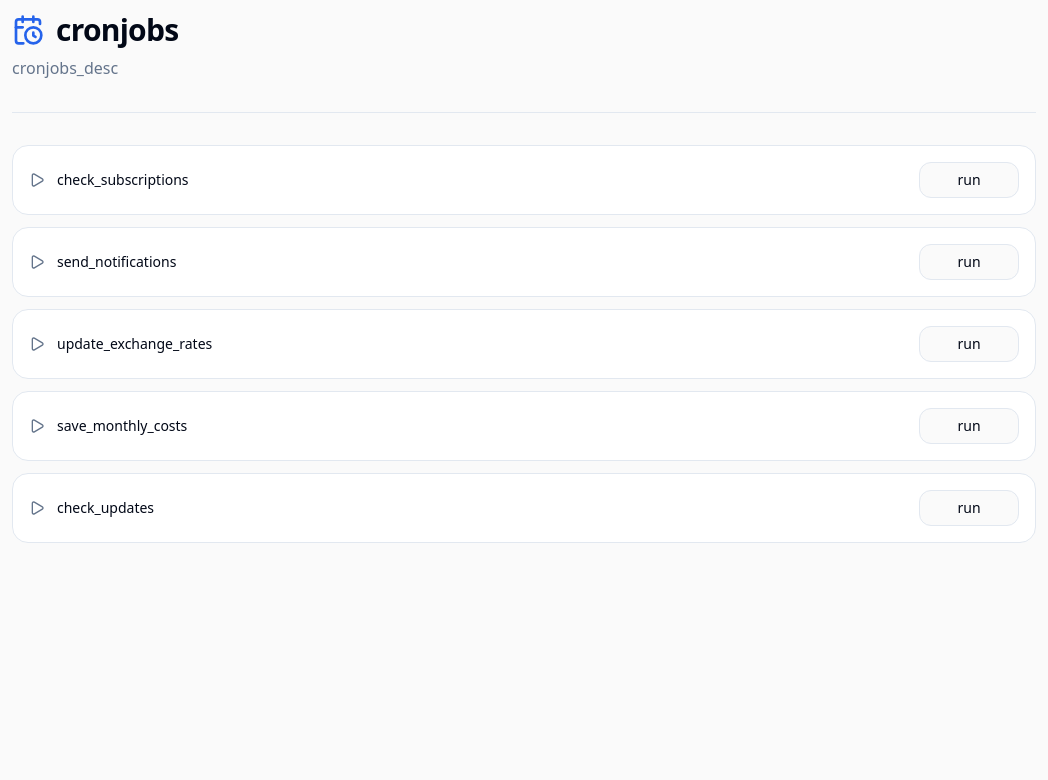
Test: CronjobsTab › handles error run (string error)
Click the button "run" in the row of "update_exchange_rates" at (969,344), box x1=919 y1=326 x2=1019 y2=362
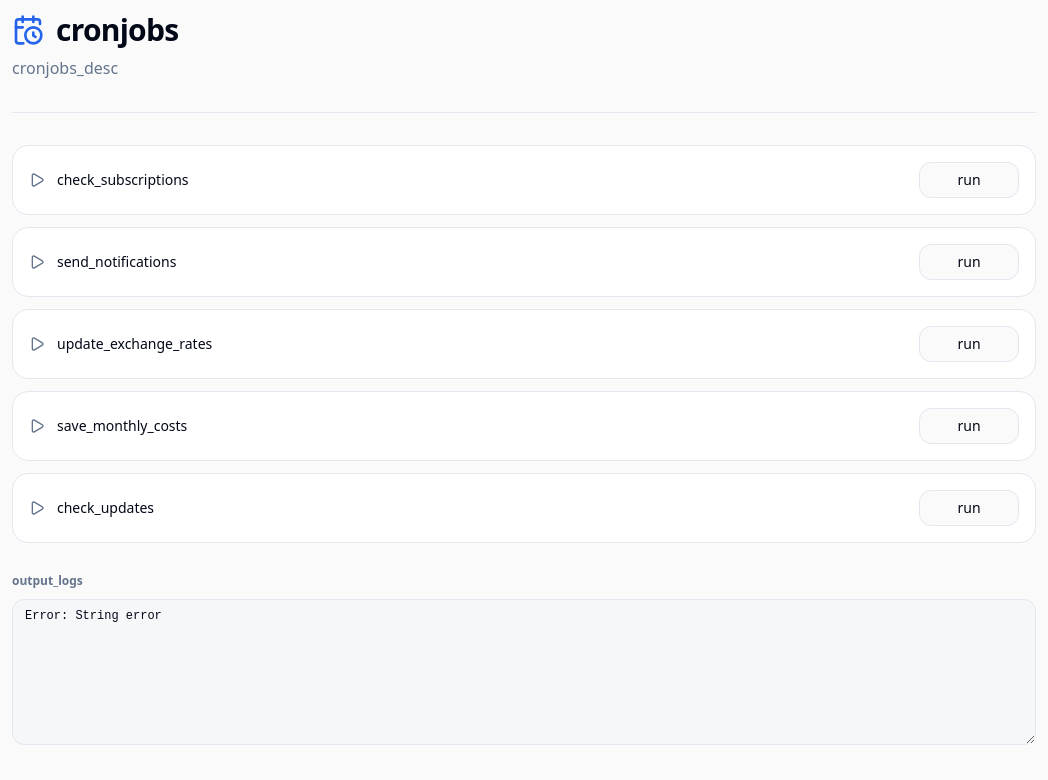
Expected: the text box holds "Error: String error", x1=12 y1=599 x2=1036 y2=745
